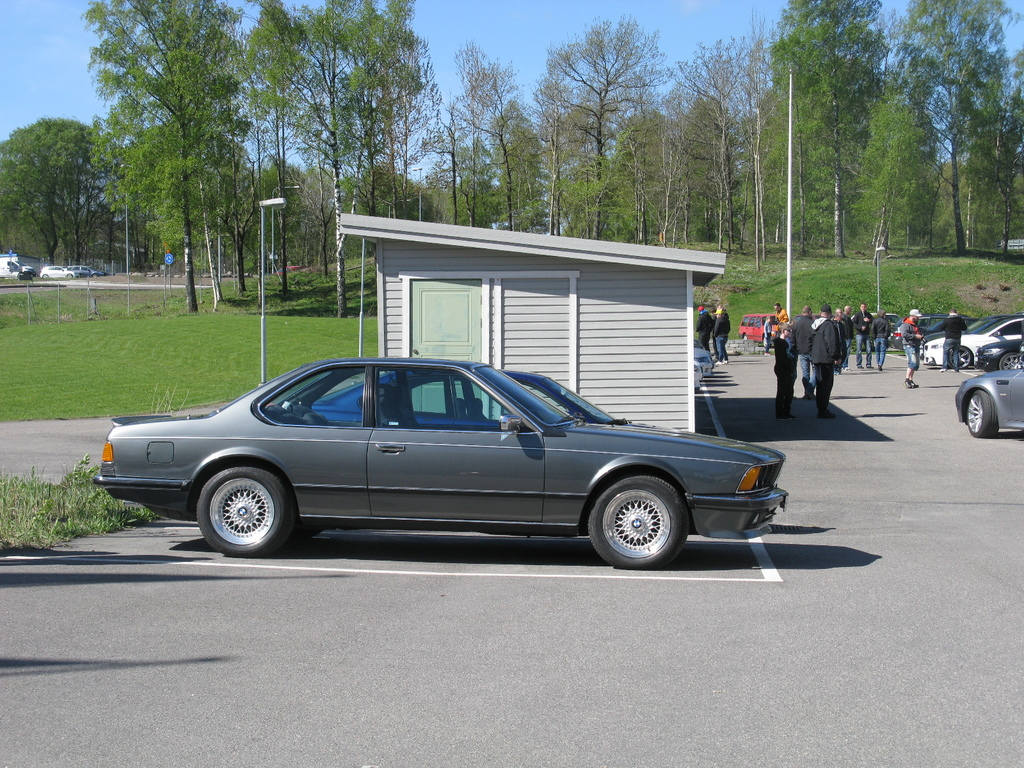Car: (94, 355, 785, 566), (294, 365, 620, 431), (739, 312, 1023, 371), (954, 355, 1023, 437), (36, 262, 104, 279)
